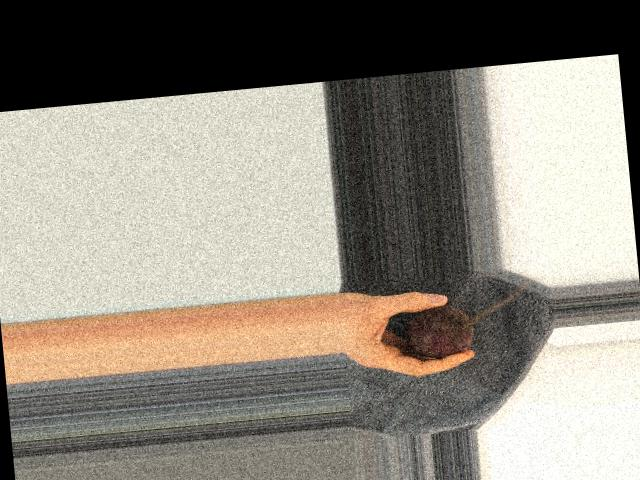beet: (405, 303, 475, 360)
